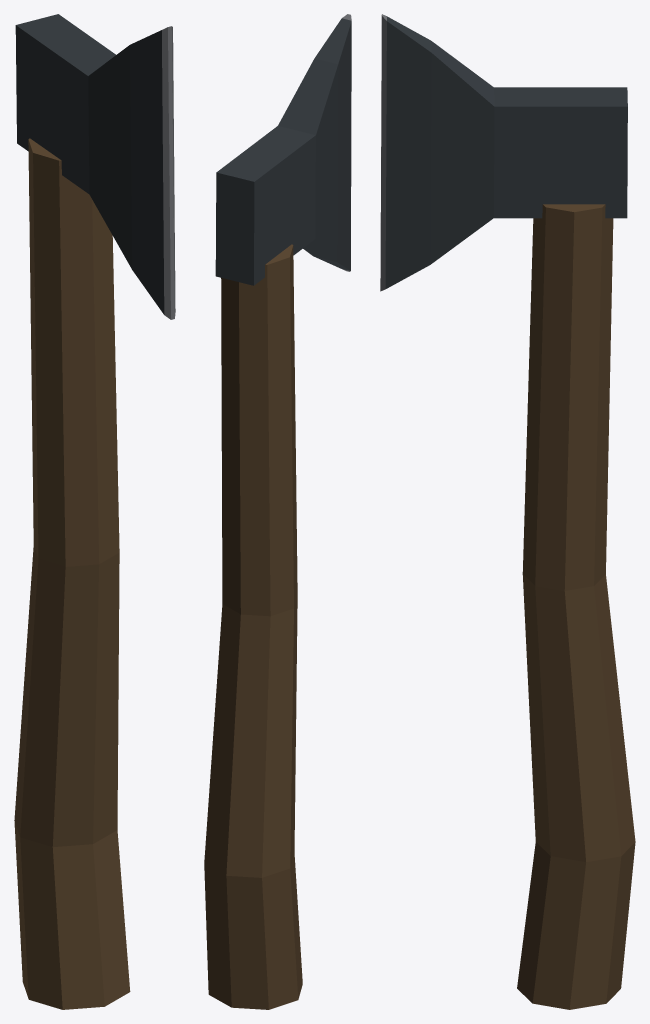
Rendered from Axe_1.fbx.
3 renders of one model, left to right at view 1: azimuth 30°, elevation 25°; view 2: azimuth 150°, elevation 25°; view 3: azimuth 270°, elevation 25°, orthographic. The views are drawn at different scales.
Parts seen in each view (by area): view 1: Axe_1; view 2: Axe_1; view 3: Axe_1.
Boxes of the visible parts, bbox=[...] form: Axe_1: bbox=[14, 14, 175, 1009]; Axe_1: bbox=[204, 14, 351, 1009]; Axe_1: bbox=[380, 14, 635, 1009].
Bounding box in the file's own units: 8.15 × 83.93 × 19.97.
